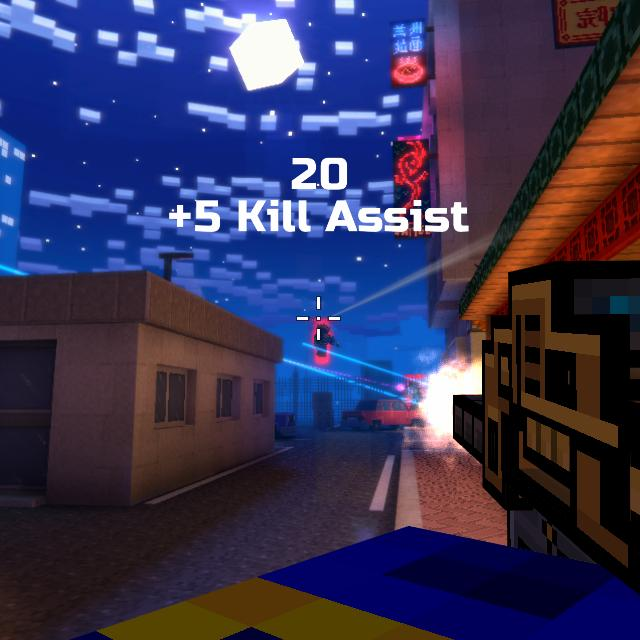Enemy: (316, 323, 335, 357), (405, 380, 423, 410)
